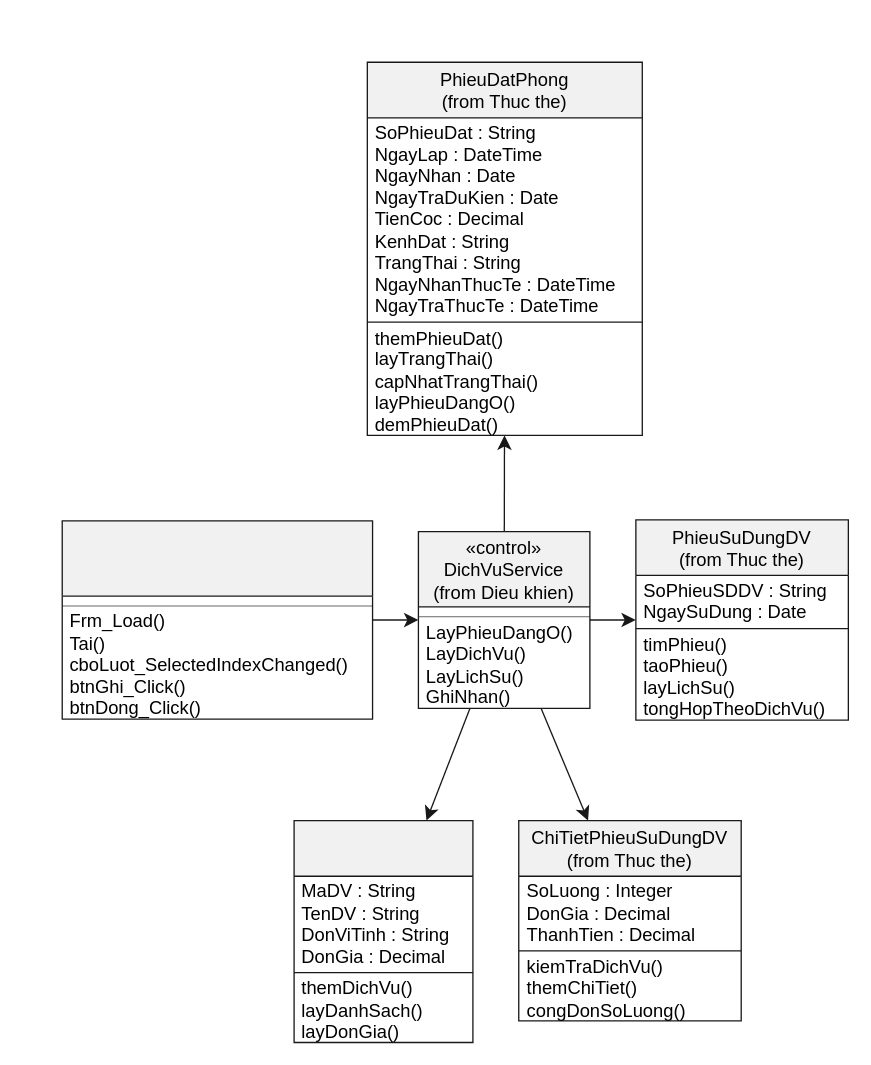
The diagram is 871 pixels wide and 1065 high, and some of its shapes have lost their labels. The box of each missing label's shape, as (x1, y1, x2, y2) in pixels:
DichVu (from Thuc the): (293, 819, 473, 1042)
«boundary» FrmDichVu (from Giao dien): (61, 520, 373, 719)
